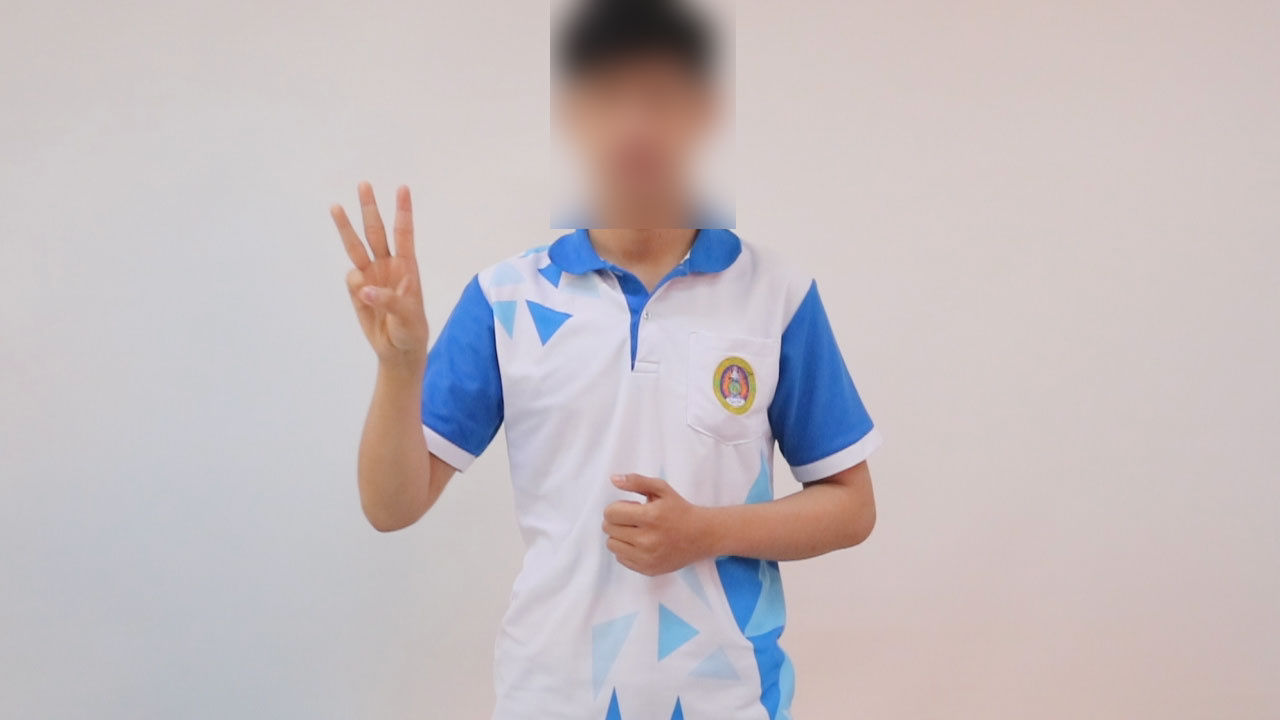wor: (319, 176, 438, 366)
